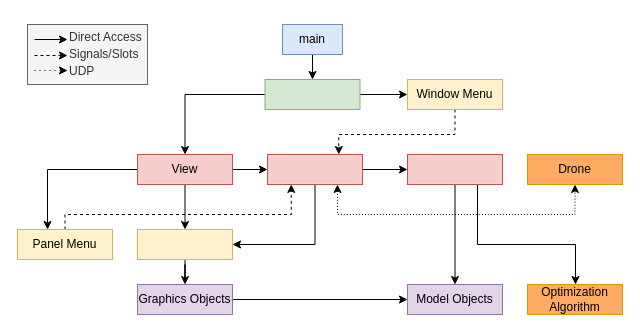
This 640x332 diagram has some shape labels left out. Here are the shapes that lost their labels. From the top down, the centre of each, then its label:
pixel 312 94: Main Window
pixel 314 169: Controller
pixel 454 169: Model
pixel 184 244: Canvas
